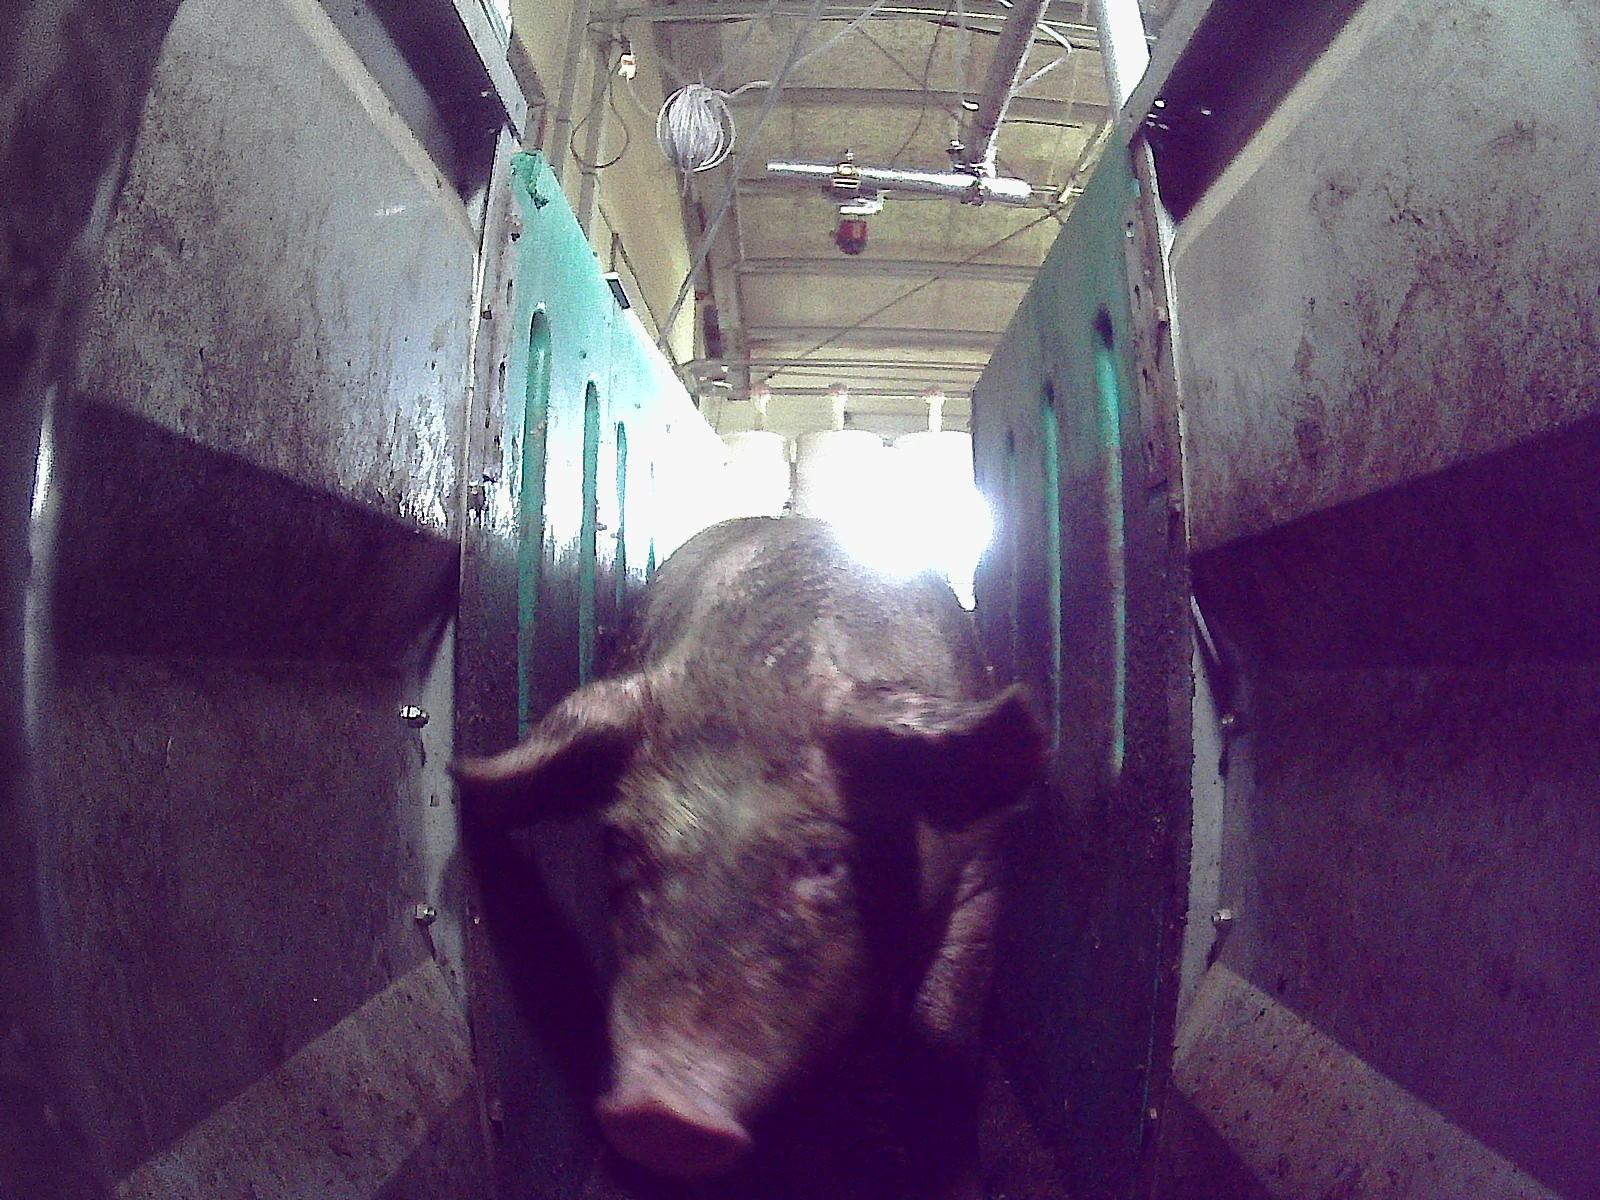Face: (597, 698, 888, 1174)
